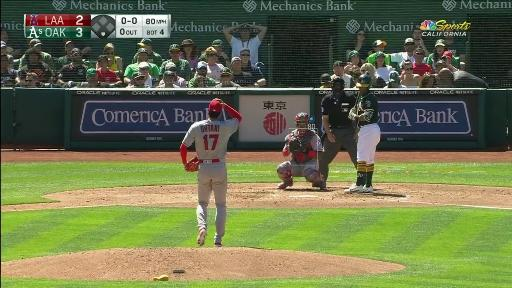pitcher: (180, 97, 243, 248)
